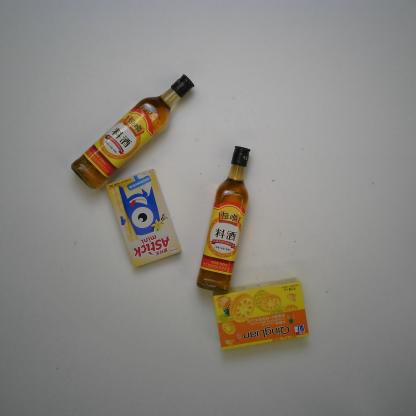Dessert: (103, 168, 183, 271), (211, 278, 313, 352)
Seasoner: (69, 71, 196, 193), (195, 145, 252, 294)
